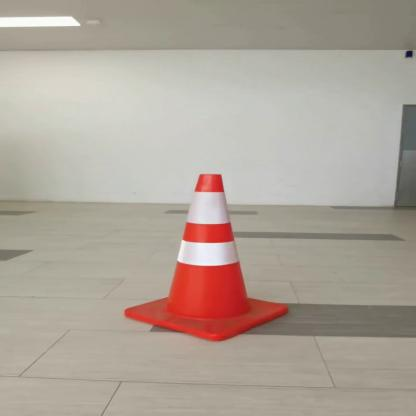cone: (113, 171, 300, 343)
